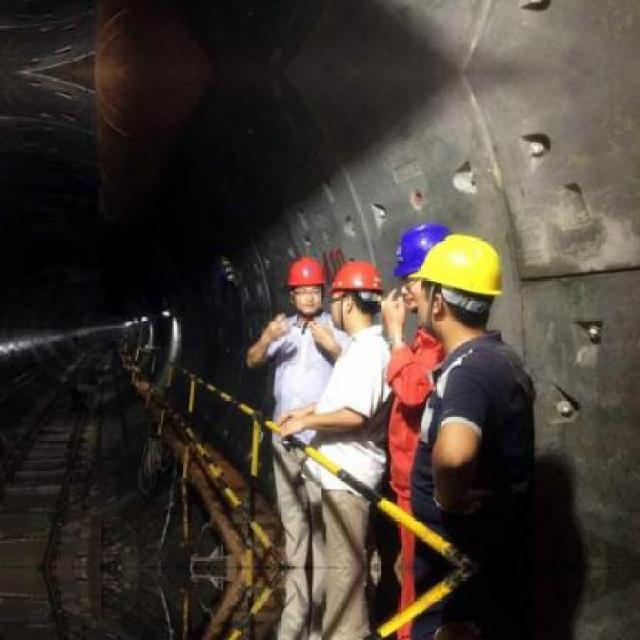helmet: (412, 232, 498, 343), (402, 225, 456, 310), (331, 256, 383, 332), (283, 252, 329, 317)
